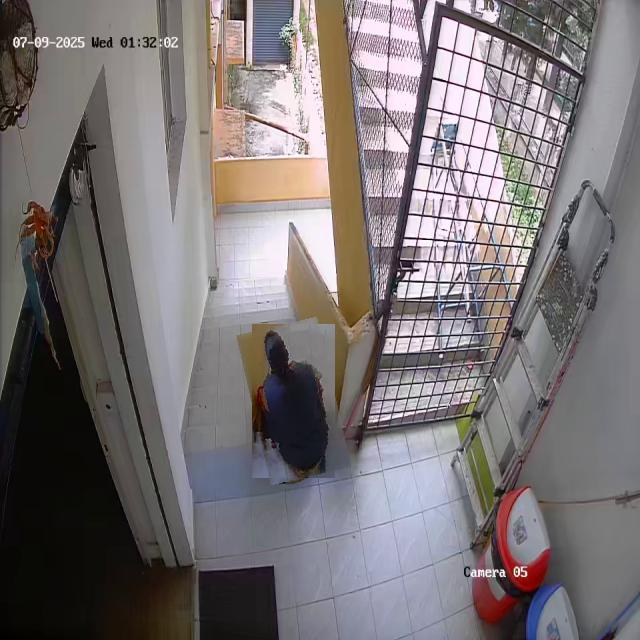person: (244, 320, 343, 482)
